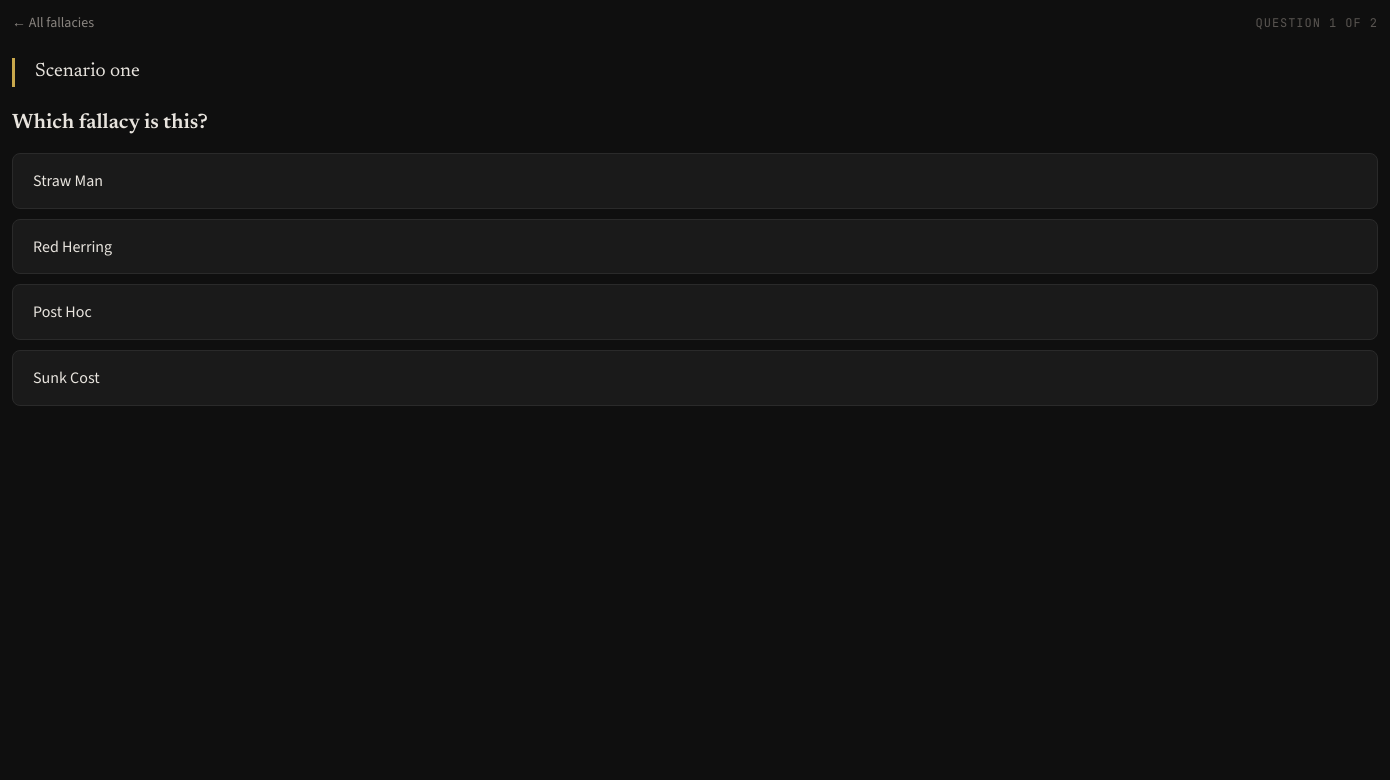
Test: FallacyQuiz › hides the next button until an answer is chosen
The width and height of the screenshot is (1390, 780).
Expected: the button "next question" is not shown
Click the button "Straw Man": click(68, 181) [12,153,1378,209]
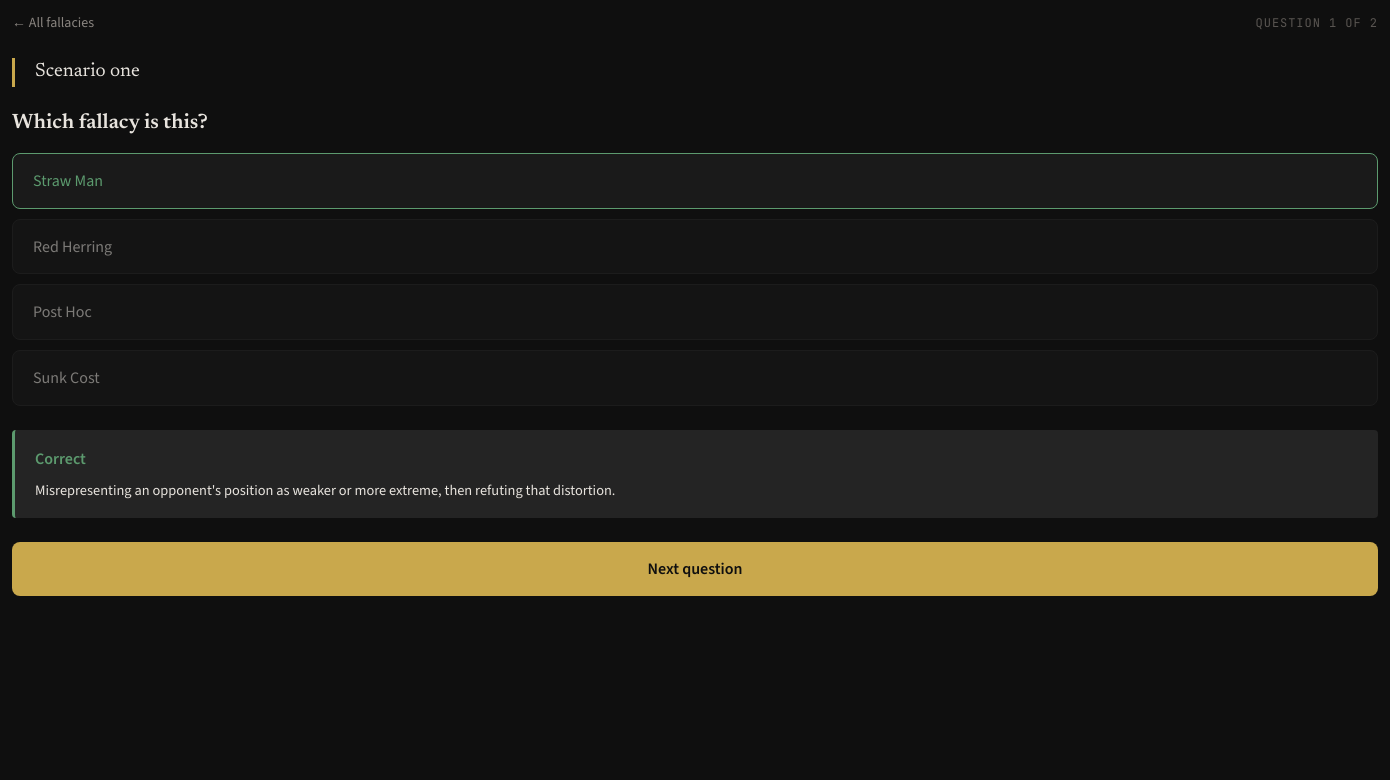
Click the button "Next question": click(695, 569) [12,542,1378,596]
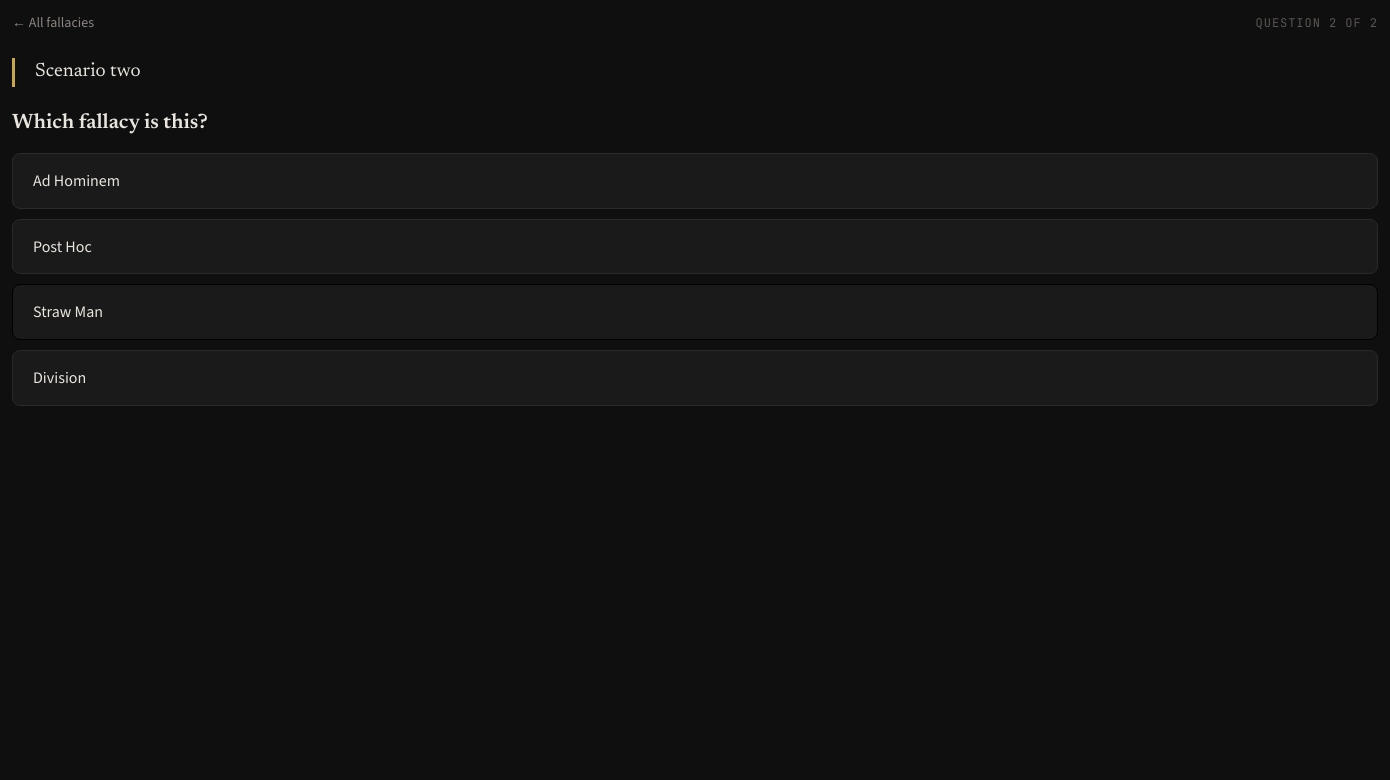
Expected: the text "Scenario two" is shown, [35,62,140,81]
Expected: the text "Question 2 of 2" is shown, [1256,14,1378,33]
